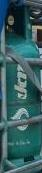cylinder: (1, 1, 42, 173)
